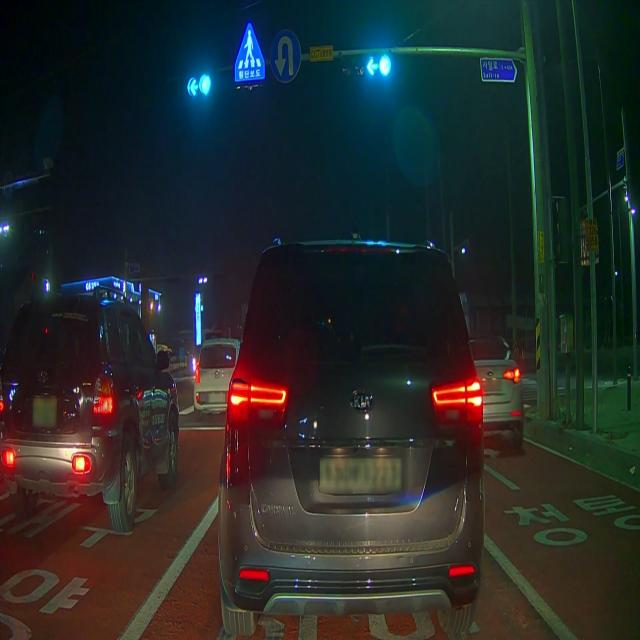Green Light: (199, 72, 212, 96), (379, 54, 392, 78)
